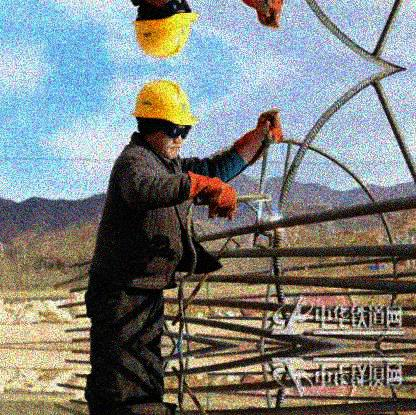helmet: (130, 78, 201, 159), (130, 1, 202, 59)
